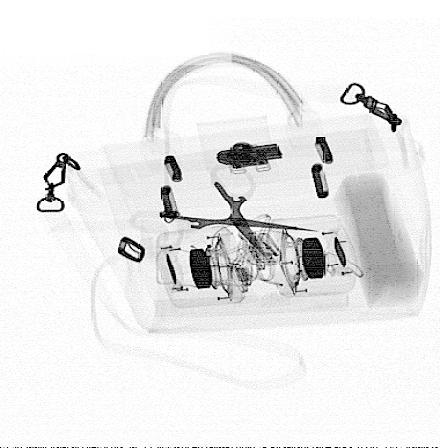Scissors: (129, 161, 323, 263)
